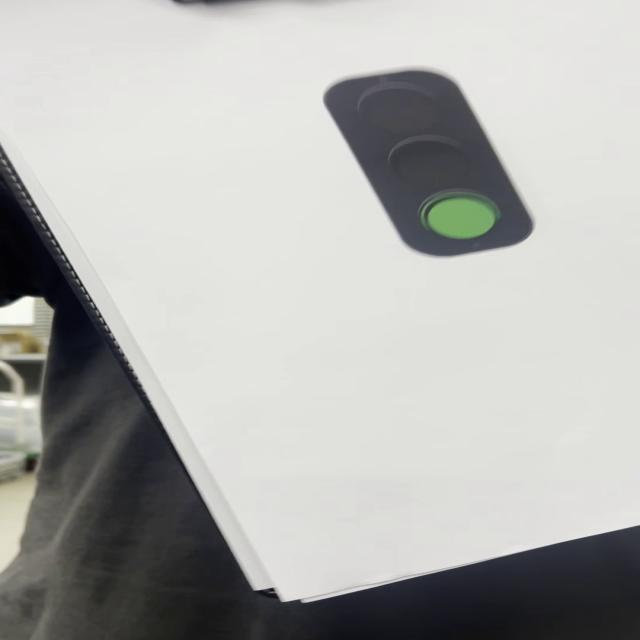green: (324, 67, 537, 258)
